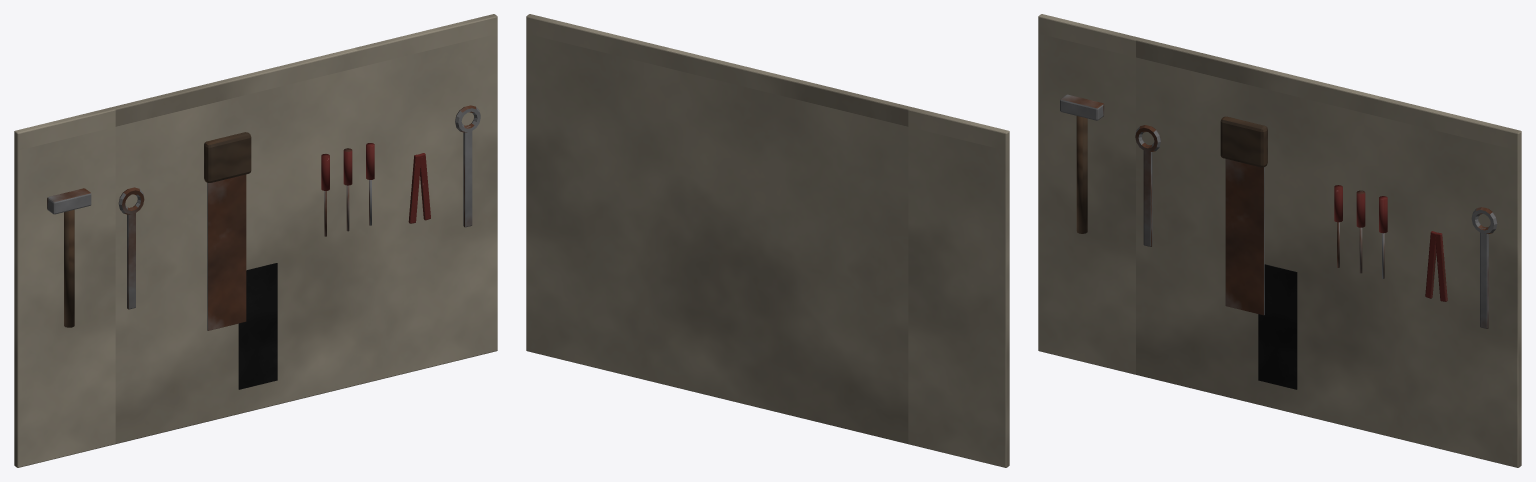
The model's file is F11_tool_rack_wall.glb.
3 views of the same model, side by side, from view 1: azimuth 30°, elevation 25°; view 2: azimuth 150°, elevation 25°; view 3: azimuth 330°, elevation 25° (orthographic).
Visible parts, largest first — view 1: F11_tool_rack_wall; view 2: F11_tool_rack_wall; view 3: F11_tool_rack_wall.
Boxes of the visible parts, x1,y1,x2,y2 form: F11_tool_rack_wall: (14, 14, 497, 467); F11_tool_rack_wall: (526, 14, 1009, 467); F11_tool_rack_wall: (1038, 14, 1521, 467).
Size of the model in its own units: 1.5 by 1 by 0.06.
5 materials, 5 textured.
